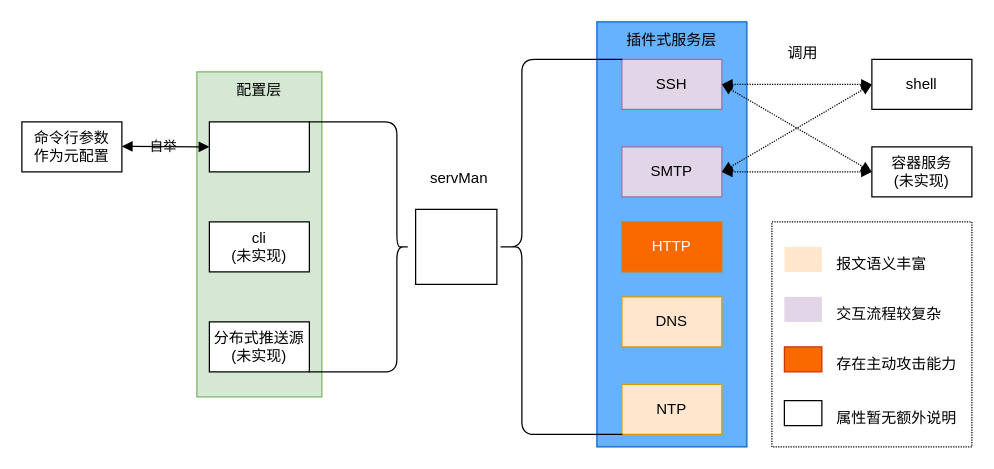
The diagram is 994 pixels wide and 469 high, and some of its shapes have lost their labels. The shapes that lost their labels are listed below. From the top down, each one's box as (x1, y1, x2, y2) in pixels, then its label:
(208, 121, 309, 172): 本地配置
(308, 121, 409, 372): 写并发
(414, 208, 497, 284): b0gus 全局服务 控制器
(496, 58, 622, 434): 读并发
